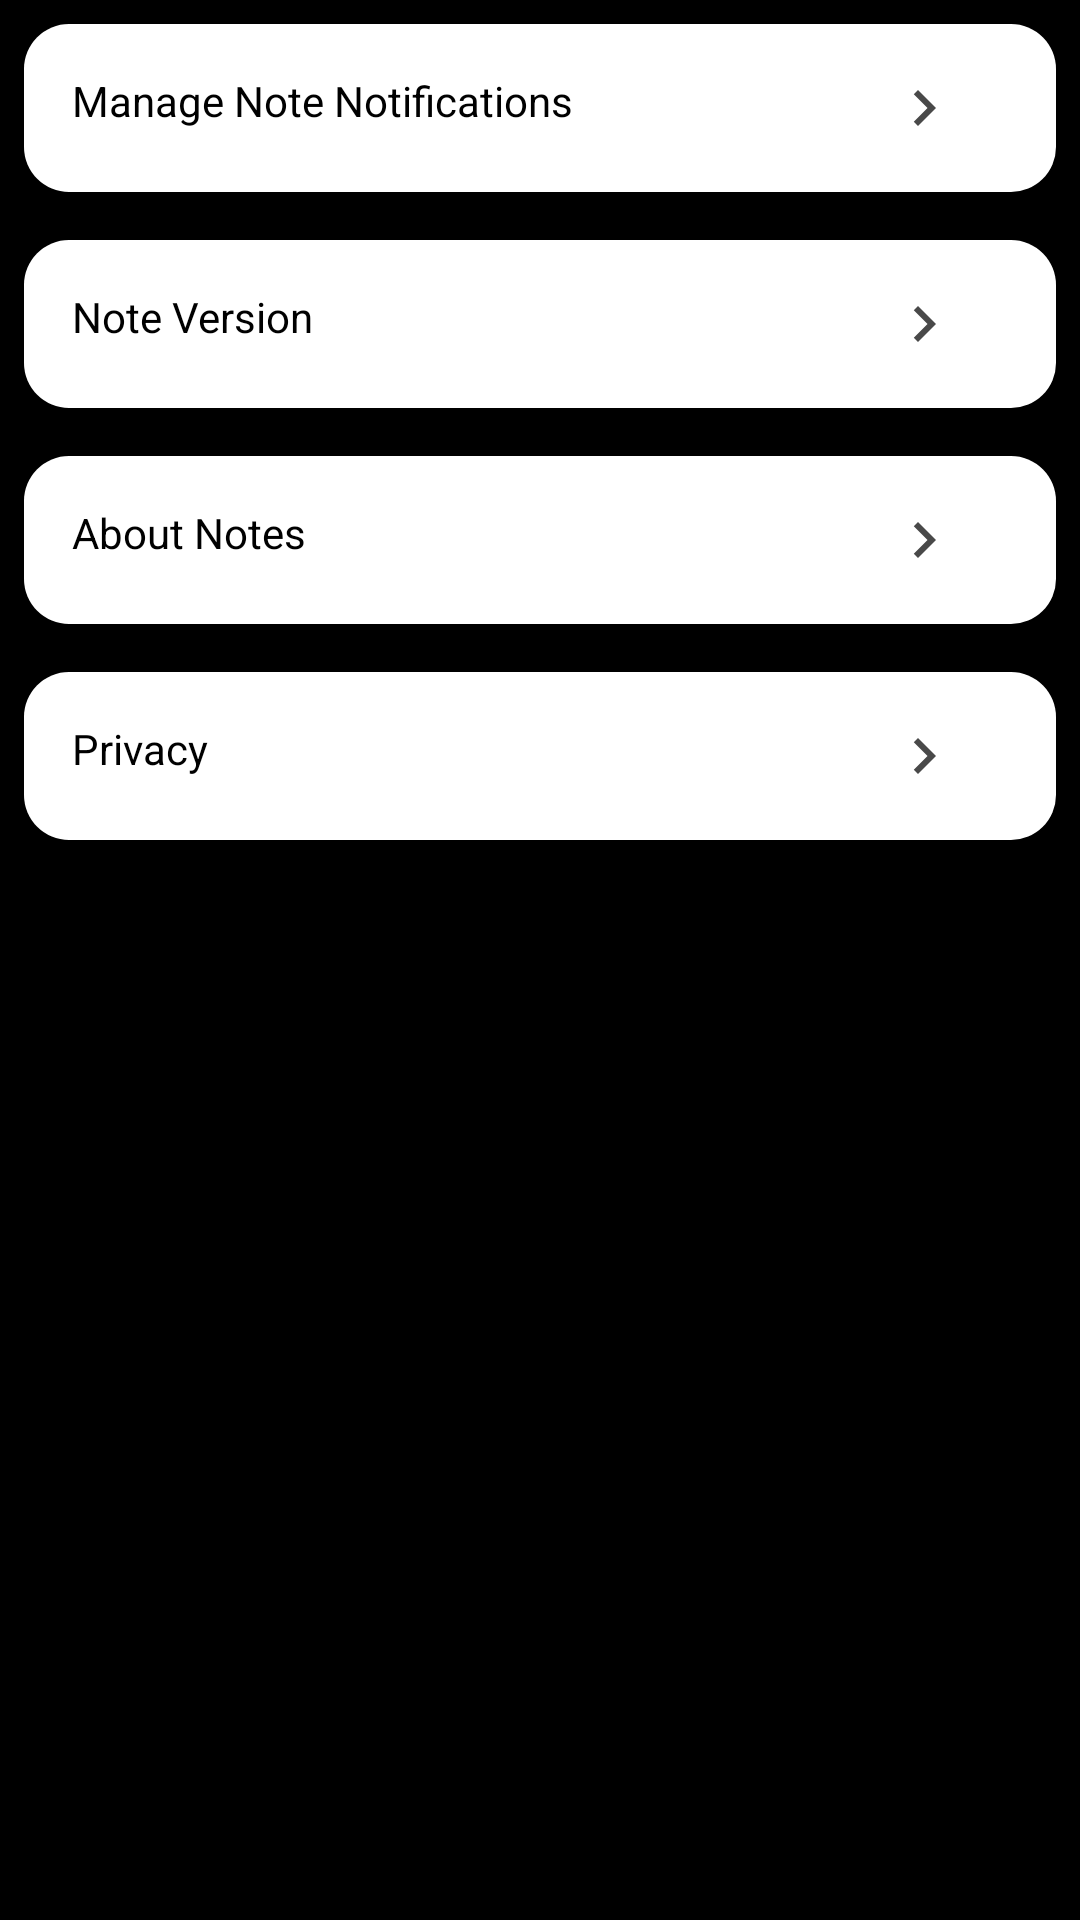

Icons on this 1080 x 1920 Android screen, each with the point to tap as point (x, y):
navigate next: point (925, 108), point (925, 324), point (925, 540), point (925, 756)
